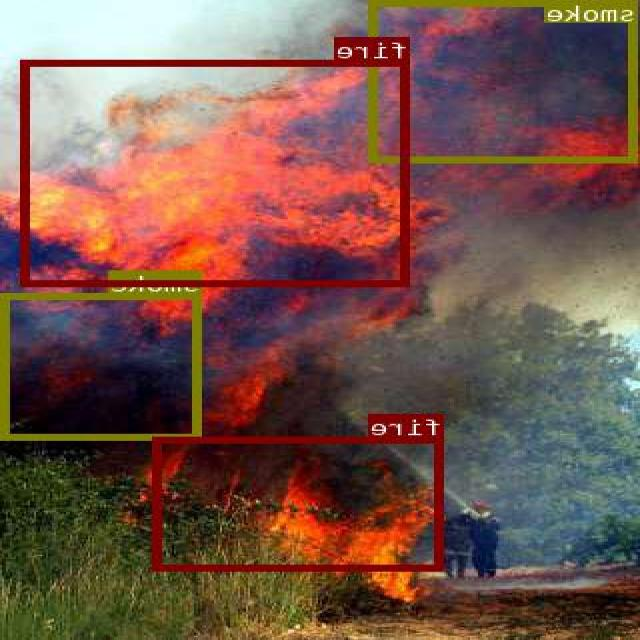fire: (23, 59, 411, 286), (156, 436, 445, 570)
smoke: (371, 0, 639, 161), (4, 292, 204, 438)
